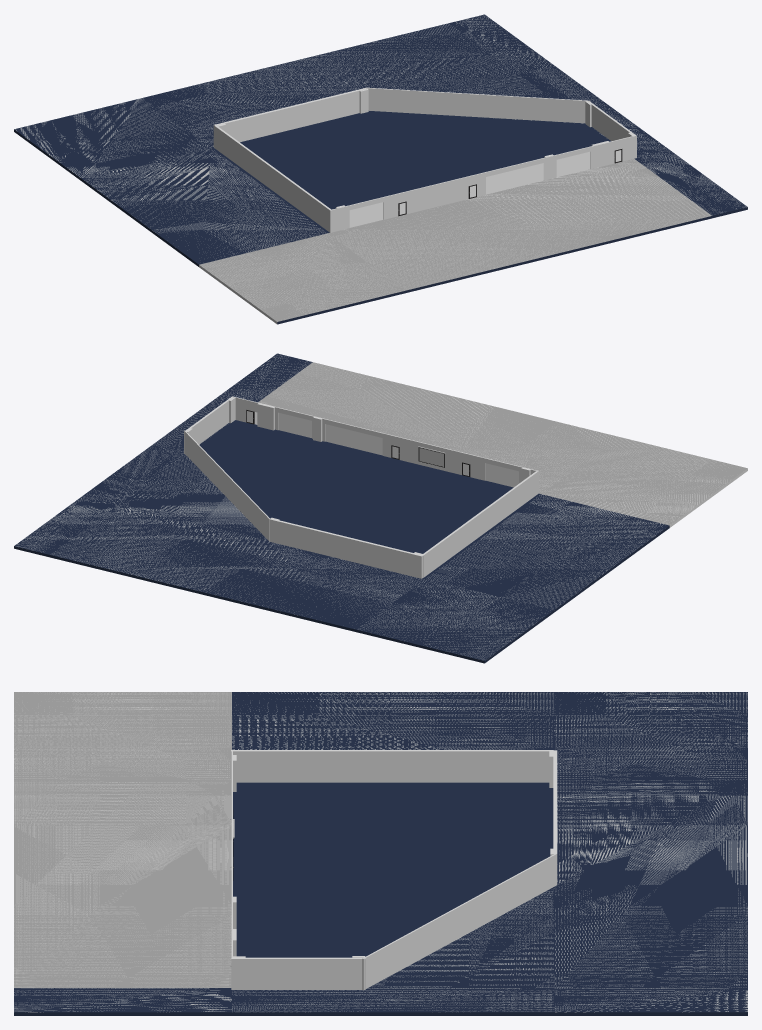
The model's file is mvb211_doors.fbx.
3 views of the same model, one above another, from view 1: azimuth 30°, elevation 25°; view 2: azimuth 150°, elevation 25°; view 3: azimuth 270°, elevation 25° (orthographic). The views are drawn at different scales.
Parts seen in each view (by area): view 1: mvb211:floor_mvb211, mvb211:wall4, mvb211:Wall1_update, mvb211:wall3, mvb211:wall2, mvb211:large_window_glass2, mvb211:wall5, mvb211:large_window_glass3, mvb211:large_window_glass1; view 2: mvb211:floor_mvb211, mvb211:wall3, mvb211:Wall1_update, mvb211:wall2, mvb211:wall4, mvb211:large_window_glass2, mvb211:wall5, mvb211:large_window_glass3, mvb211:large_window_glass1; view 3: mvb211:floor_mvb211, mvb211:wall2, mvb211:wall4, mvb211:wall5, mvb211:wall3.
Part boxes in pixels (left/top/right/bottom): mvb211:floor_mvb211: left=14, top=14, right=747, bottom=324; mvb211:wall4: left=366, top=87, right=590, bottom=123; mvb211:Wall1_update: left=330, top=135, right=636, bottom=232; mvb211:wall3: left=213, top=88, right=367, bottom=147; mvb211:wall2: left=214, top=125, right=332, bottom=232; mvb211:large_window_glass2: left=486, top=163, right=543, bottom=194; mvb211:wall5: left=589, top=101, right=636, bottom=158; mvb211:large_window_glass3: left=556, top=151, right=590, bottom=177; mvb211:large_window_glass1: left=349, top=202, right=382, bottom=227; mvb211:floor_mvb211: left=14, top=353, right=747, bottom=663; mvb211:wall3: left=269, top=518, right=422, bottom=578; mvb211:Wall1_update: left=232, top=396, right=537, bottom=483; mvb211:wall2: left=422, top=470, right=539, bottom=577; mvb211:wall4: left=184, top=430, right=269, bottom=541; mvb211:large_window_glass2: left=325, top=424, right=382, bottom=455; mvb211:wall5: left=184, top=397, right=232, bottom=453; mvb211:large_window_glass3: left=278, top=412, right=311, bottom=437; mvb211:large_window_glass1: left=485, top=463, right=518, bottom=487; mvb211:floor_mvb211: left=14, top=692, right=747, bottom=1015; mvb211:wall2: left=231, top=750, right=553, bottom=782; mvb211:wall4: left=362, top=853, right=556, bottom=990; mvb211:wall5: left=231, top=957, right=365, bottom=989; mvb211:wall3: left=553, top=750, right=557, bottom=884.
Bounding box in the file's own units: 199 × 10.15 × 193.
9 materials, 1 textured.
